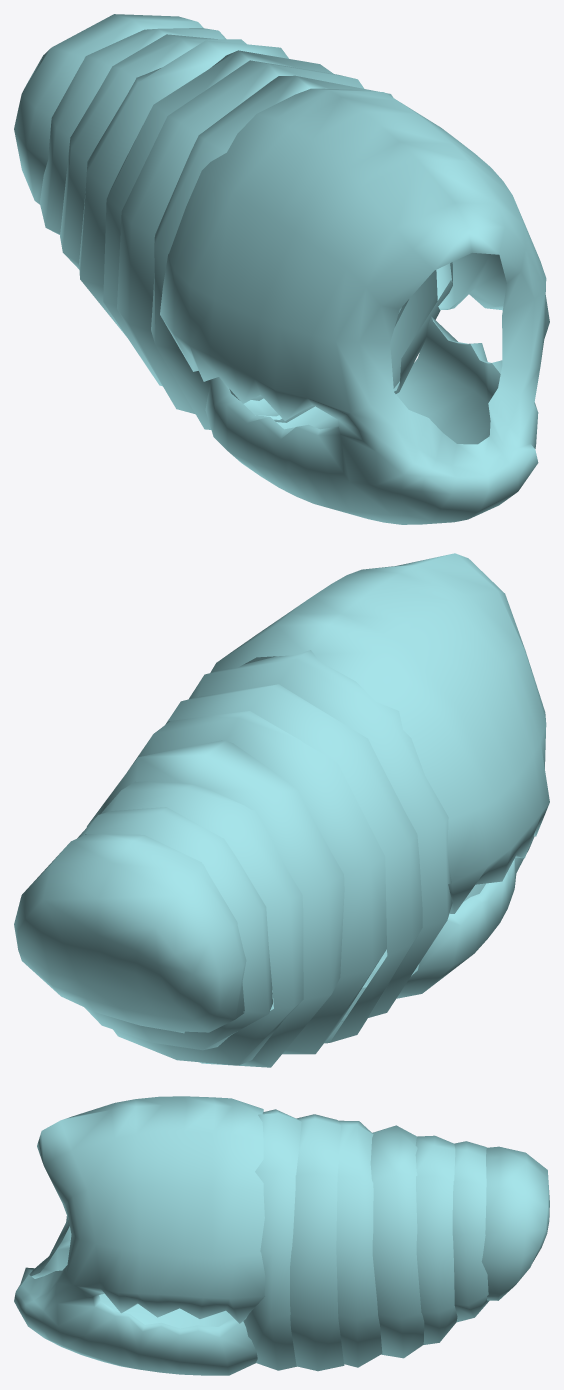
Rendered from Anomalis_Exported_Body.fbx.
The picture shows the model from 3 angles, top to bottom: view 1: azimuth 30°, elevation 25°; view 2: azimuth 150°, elevation 25°; view 3: azimuth 270°, elevation 25°; orthographic projection. The views are drawn at different scales.
Parts seen in each view (by area): view 1: back_low, back_2_low, back_1_low, back_4_low, back_7_low, back_5_low, back_3_low, back_6_low; view 2: back_low, back_7_low, back_3_low, back_4_low, back_1_low, back_2_low, back_5_low, back_6_low; view 3: back_low, back_2_low, back_4_low, back_3_low, back_1_low, back_7_low, back_5_low, back_6_low.
Boxes of the visible parts, bbox=[...] form: back_low: bbox=[160, 88, 549, 524]; back_2_low: bbox=[117, 60, 408, 422]; back_1_low: bbox=[151, 75, 452, 429]; back_4_low: bbox=[79, 40, 288, 336]; back_7_low: bbox=[14, 14, 203, 204]; back_5_low: bbox=[60, 34, 246, 269]; back_3_low: bbox=[103, 50, 333, 400]; back_6_low: bbox=[40, 28, 226, 234]; back_low: bbox=[210, 553, 549, 998]; back_7_low: bbox=[14, 834, 246, 1033]; back_3_low: bbox=[129, 711, 386, 1054]; back_4_low: bbox=[86, 740, 344, 1067]; back_1_low: bbox=[189, 650, 452, 1021]; back_2_low: bbox=[165, 684, 422, 1043]; back_5_low: bbox=[100, 781, 303, 1065]; back_6_low: bbox=[77, 807, 272, 1050]; back_low: bbox=[14, 1096, 265, 1375]; back_2_low: bbox=[290, 1114, 344, 1371]; back_4_low: bbox=[370, 1125, 424, 1358]; back_3_low: bbox=[336, 1120, 382, 1367]; back_1_low: bbox=[243, 1109, 301, 1370]; back_7_low: bbox=[481, 1146, 549, 1300]; back_5_low: bbox=[415, 1135, 457, 1344]; back_6_low: bbox=[452, 1141, 489, 1322].
Bounding box in the file's own units: 0.3839 × 0.4328 × 0.8093.
